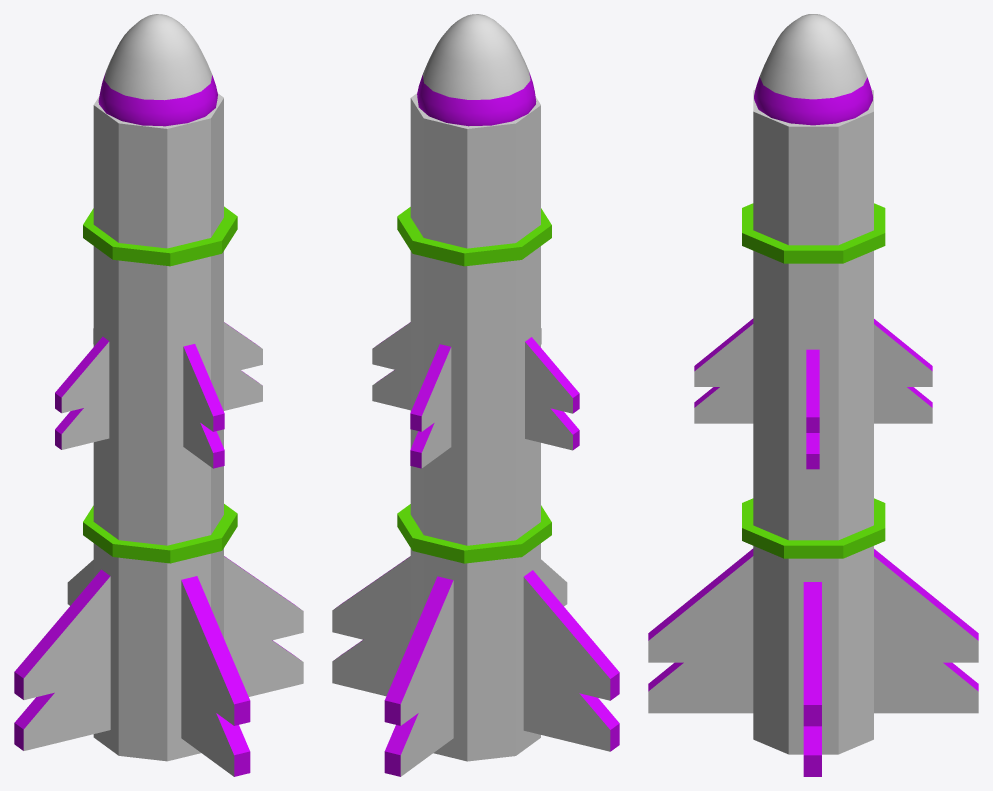
The model's file is missile_lv4.fbx.
3 renders of one model, left to right at view 1: azimuth 30°, elevation 25°; view 2: azimuth 150°, elevation 25°; view 3: azimuth 270°, elevation 25°, orthographic.
Visible parts, largest first — view 1: missile_lv4; view 2: missile_lv4; view 3: missile_lv4.
Part boxes in pixels (x1=…): missile_lv4: x1=14, y1=14, x2=303, y2=776; missile_lv4: x1=332, y1=14, x2=619, y2=776; missile_lv4: x1=648, y1=14, x2=978, y2=776.
Size of the model in its own units: 91.31 by 225 by 94.37.
